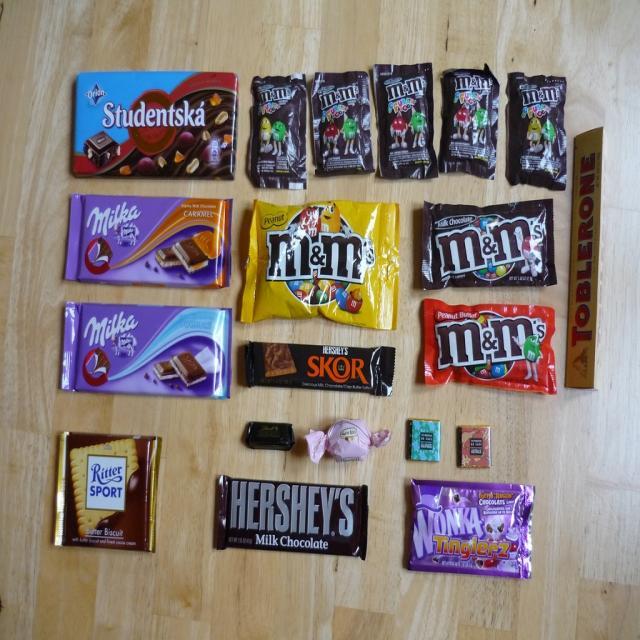milka: (82, 310, 139, 359), (85, 203, 142, 248)
